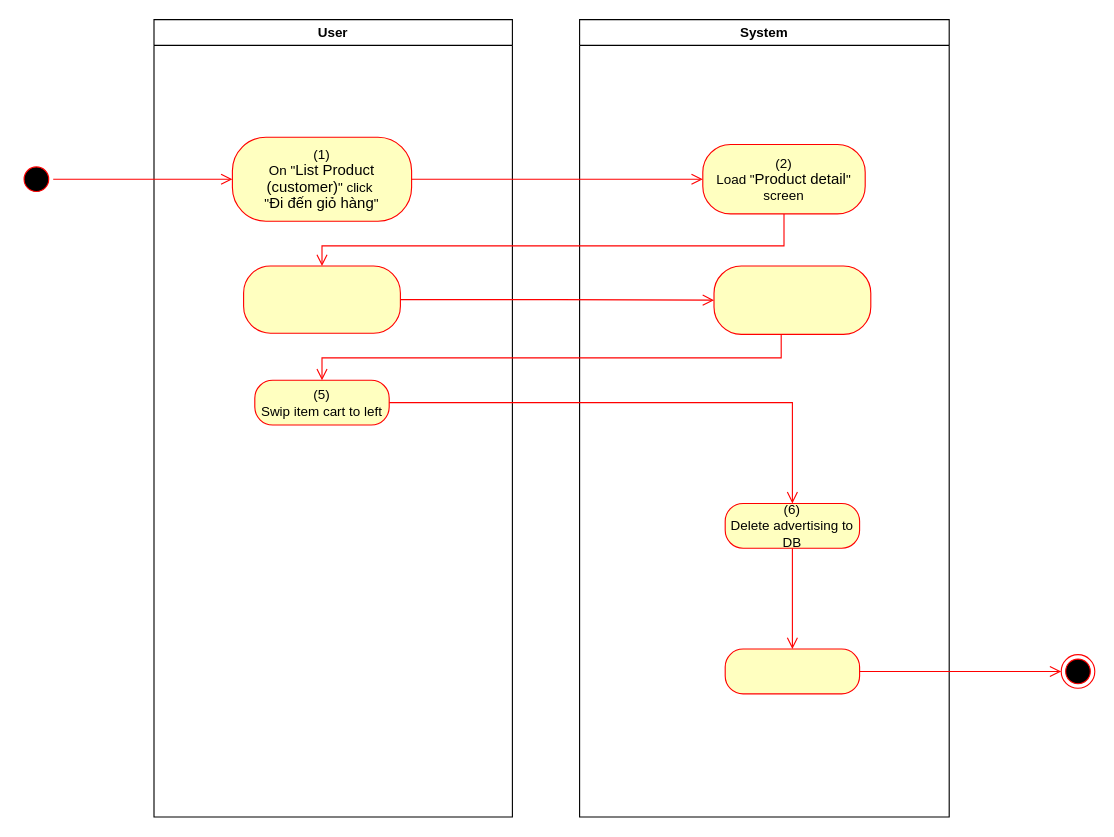
The diagram is 1114 pixels wide and 837 high, and some of its shapes have lost their labels. The shapes that lost their labels are listed below. From the top down, each one's centre as x and y in pixels, then its label:
[321,299]: (3) Click button "Chỉnh sửa" trên 1 item nghiệp vụ bất kỳ
[792,299]: (4) Load " CRUD Accounting Profession Form "
[792,671]: (7) Update UI
